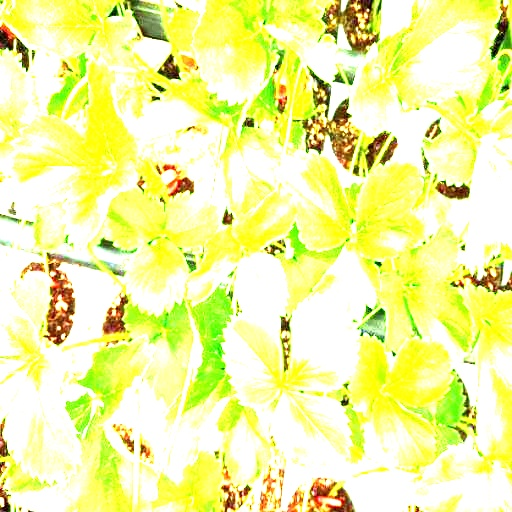Powdery Mildew Leaf: (161, 378, 236, 469), (307, 240, 382, 325), (185, 225, 244, 307), (184, 287, 234, 379), (229, 189, 297, 253), (235, 251, 290, 323)
